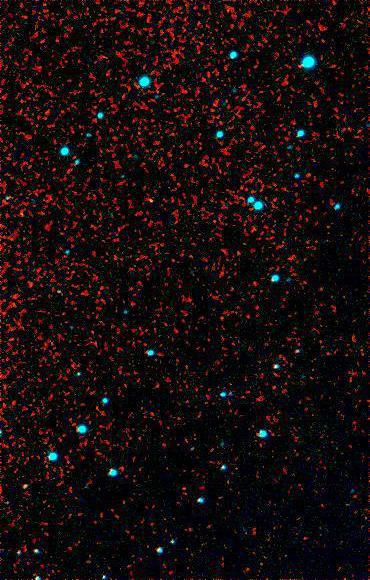star: (133, 185, 163, 215)
